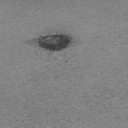iron sheet ash: (38, 34, 72, 53), (64, 60, 68, 64)
